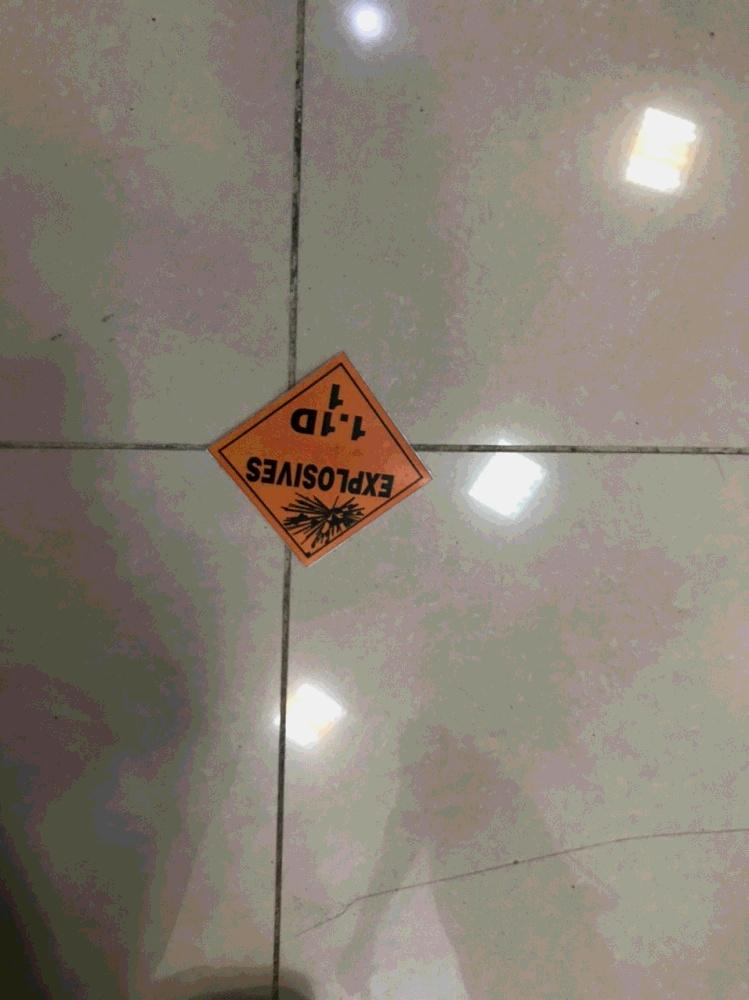explosive: (207, 352, 433, 568)
